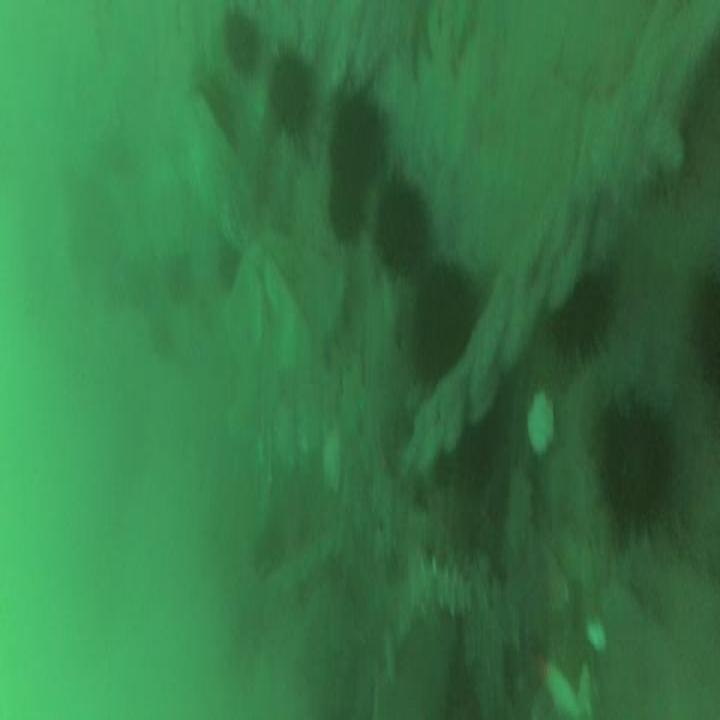echinus: (600, 406, 672, 534), (416, 263, 476, 381), (376, 178, 424, 274), (557, 276, 608, 354), (332, 98, 384, 172), (269, 52, 311, 135), (331, 174, 363, 238), (223, 14, 257, 70)
holothurian: (409, 553, 471, 620)
